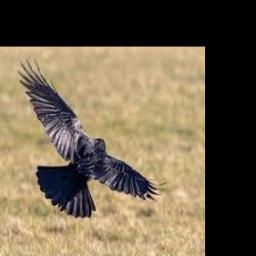Crow: (16, 53, 166, 217)
